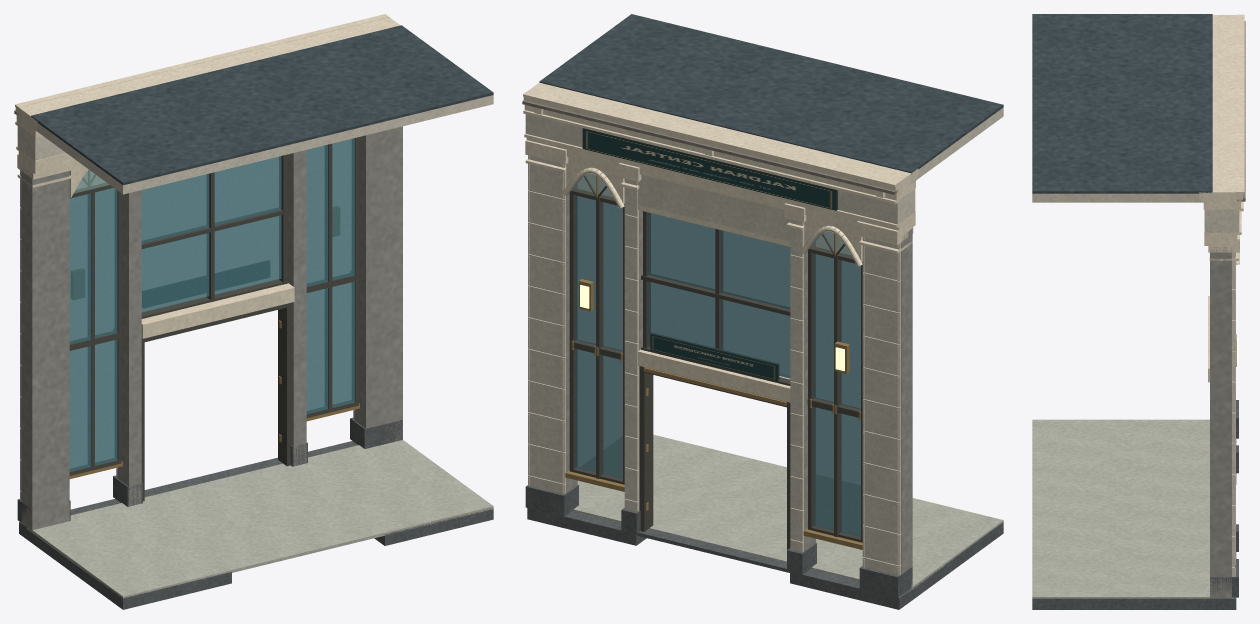
3 renders of one model, left to right at view 1: azimuth 30°, elevation 25°; view 2: azimuth 150°, elevation 25°; view 3: azimuth 270°, elevation 25°, orthographic. The views are drawn at different scales.
Visible parts, largest first — view 1: VIS_STONE_PIER_Core, VIS_VESTIBULE_FLOOR, VIS_VESTIBULE_ROOF, VIS_UPPER_GLASS, VIS_GLASS_ENTRANCE_LEFT, VIS_GLASS_ENTRANCE_RIGHT, VIS_VESTIBULE_CEILING, VIS_CORNICE_ROOF_CAP, VIS_ENTRANCE_HEADER, VIS_FOUNDATION_LEFT, VIS_STONE_PIER_Base, VIS_BRONZE_DOOR_FRAME_RIGHT (+13 smaller); view 2: VIS_STONE_PIER_Ashlar, VIS_VESTIBULE_ROOF, VIS_VESTIBULE_FLOOR, VIS_UPPER_GLASS, VIS_GLASS_ENTRANCE_LEFT, VIS_GLASS_ENTRANCE_RIGHT, VIS_CORNICE_SHADOW_LINE (×2), VIS_STONE_PIER_Core, VIS_CORNICE_ROOF_CAP, VIS_STATION_SIGN_TYPOGRAPHY, VIS_ENTRANCE_SPANDREL, VIS_STONE_PIER_Base (+25 smaller); view 3: VIS_VESTIBULE_ROOF, VIS_VESTIBULE_FLOOR, VIS_STONE_PIER_Core, VIS_CORNICE_ROOF_CAP, VIS_FOUNDATION_RIGHT, VIS_CORNICE_SHADOW_LINE (×2), VIS_VESTIBULE_CEILING, VIS_STONE_PIER_Ashlar, VIS_STONE_FRIEZE, VIS_STONE_PIER_Base, VIS_ENTABLATURE_BASE, VIS_STONE_PIER_Capital (+2 smaller).
Part boxes in pixels (left/top/right/bottom): VIS_STONE_PIER_Core: left=21, top=126, right=402, bottom=531; VIS_VESTIBULE_FLOOR: left=27, top=440, right=493, bottom=598; VIS_VESTIBULE_ROOF: left=31, top=25, right=493, bottom=185; VIS_UPPER_GLASS: left=141, top=156, right=281, bottom=312; VIS_GLASS_ENTRANCE_LEFT: left=69, top=188, right=117, bottom=471; VIS_GLASS_ENTRANCE_RIGHT: left=306, top=138, right=354, bottom=413; VIS_VESTIBULE_CEILING: left=30, top=95, right=493, bottom=194; VIS_CORNICE_ROOF_CAP: left=15, top=17, right=400, bottom=129; VIS_ENTRANCE_HEADER: left=141, top=283, right=294, bottom=338; VIS_FOUNDATION_LEFT: left=19, top=499, right=231, bottom=609; VIS_STONE_PIER_Base: left=17, top=417, right=402, bottom=522; VIS_BRONZE_DOOR_FRAME_RIGHT: left=278, top=303, right=291, bottom=466; VIS_STONE_PIER_Ashlar: left=528, top=155, right=900, bottom=597; VIS_VESTIBULE_ROOF: left=539, top=14, right=1003, bottom=174; VIS_VESTIBULE_FLOOR: left=573, top=434, right=1003, bottom=591; VIS_UPPER_GLASS: left=648, top=212, right=790, bottom=378; VIS_GLASS_ENTRANCE_LEFT: left=814, top=253, right=860, bottom=536; VIS_GLASS_ENTRANCE_RIGHT: left=576, top=195, right=622, bottom=478; VIS_CORNICE_SHADOW_LINE (×2): left=522, top=91, right=898, bottom=227; VIS_STONE_PIER_Core: left=566, top=193, right=912, bottom=596; VIS_CORNICE_ROOF_CAP: left=523, top=82, right=918, bottom=191; VIS_STATION_SIGN_TYPOGRAPHY: left=583, top=129, right=834, bottom=210; VIS_ENTRANCE_SPANDREL: left=638, top=175, right=790, bottom=241; VIS_STONE_PIER_Base: left=525, top=485, right=912, bottom=598; VIS_VESTIBULE_ROOF: left=1032, top=14, right=1212, bottom=193; VIS_VESTIBULE_FLOOR: left=1032, top=419, right=1209, bottom=598; VIS_STONE_PIER_Core: left=1210, top=247, right=1231, bottom=598; VIS_CORNICE_ROOF_CAP: left=1199, top=15, right=1242, bottom=200; VIS_FOUNDATION_RIGHT: left=1032, top=552, right=1236, bottom=609; VIS_CORNICE_SHADOW_LINE (×2): left=1236, top=14, right=1245, bottom=234; VIS_VESTIBULE_CEILING: left=1032, top=193, right=1213, bottom=202; VIS_STONE_PIER_Ashlar: left=1232, top=252, right=1235, bottom=598; VIS_STONE_FRIEZE: left=1204, top=209, right=1239, bottom=232; VIS_STONE_PIER_Base: left=1210, top=400, right=1238, bottom=597; VIS_ENTABLATURE_BASE: left=1204, top=210, right=1237, bottom=245; VIS_STONE_PIER_Capital: left=1208, top=235, right=1239, bottom=252.
Size of the model in its own units: 8 by 8.81 by 4.07.
15 materials, 15 textured.
